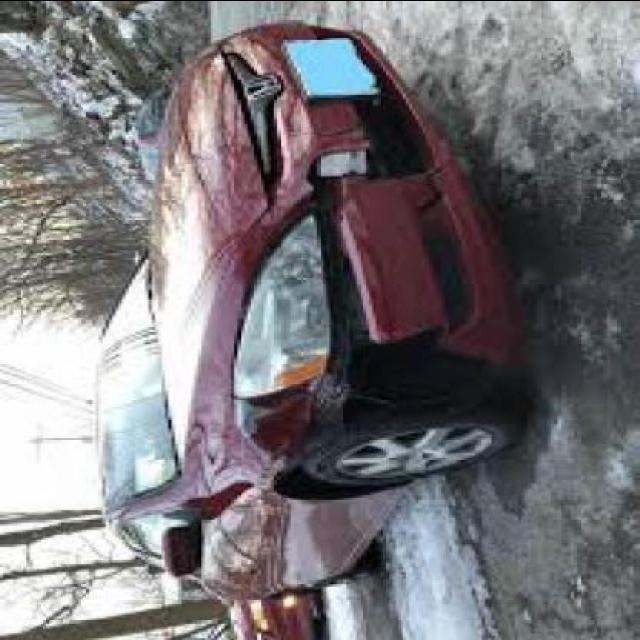front-bumper-dent: (316, 170, 454, 376)
